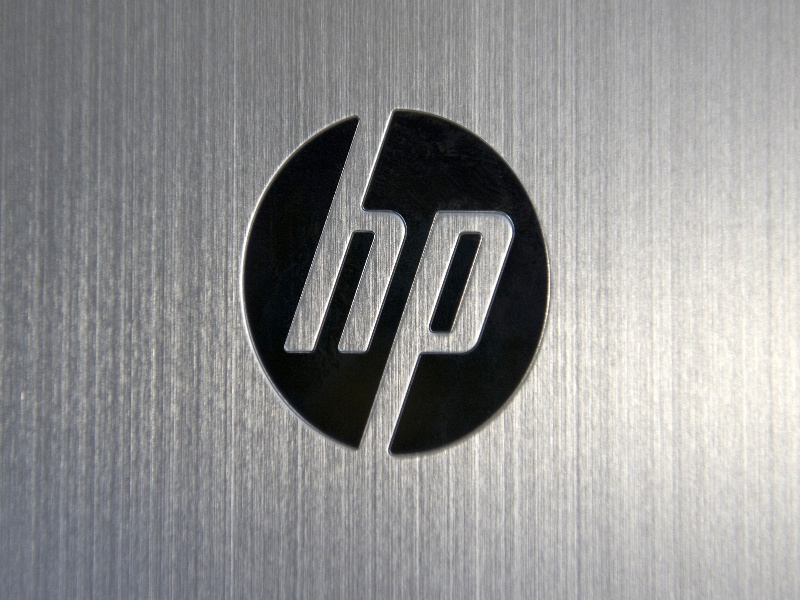hp: (279, 109, 512, 461)
